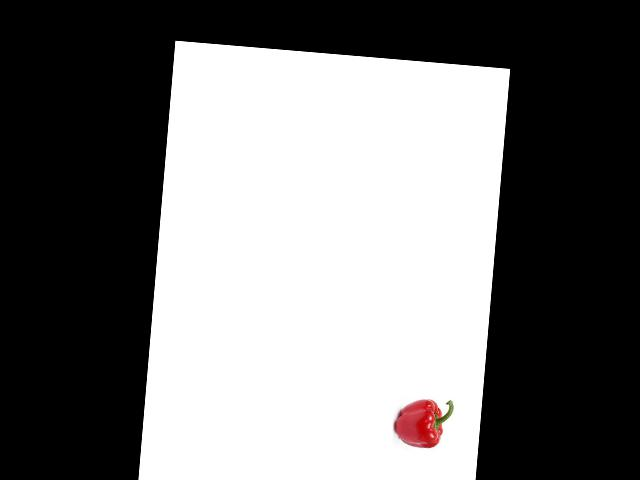bell_pepper: (391, 393, 455, 454)
